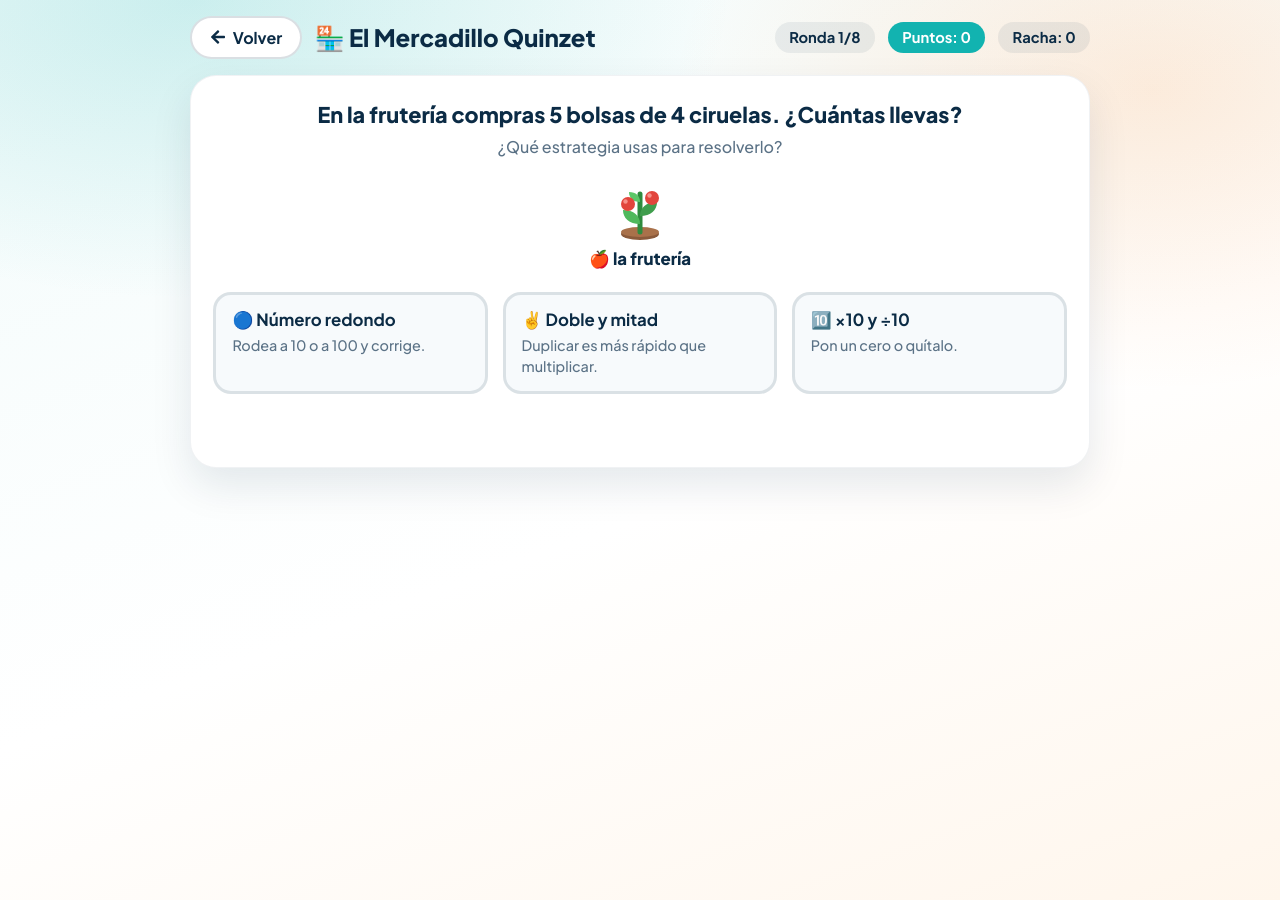
Scenario: el Mercadillo Quinzet › elige la estrategia, responde los pasos y cobra
This screenshot has width=1280, height=900.
Click the button "🔵 Número redondo Rodea a 10 o a 100 y corrige.". click: (351, 343)
box: [213,292,488,394]
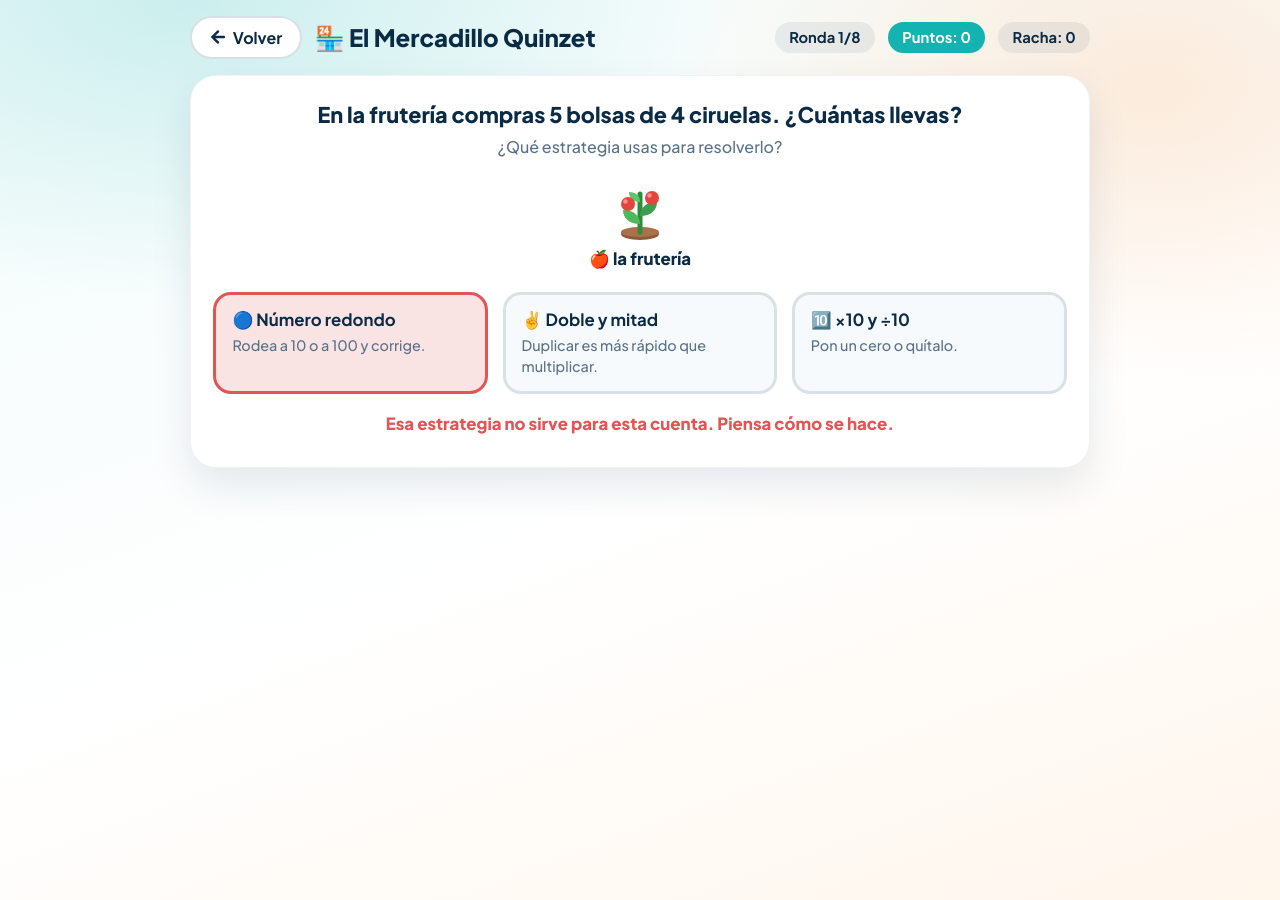
Click the button "✌️ Doble y mitad Duplicar es más rápido que multiplicar.". click: (640, 343)
box: [503,292,777,394]
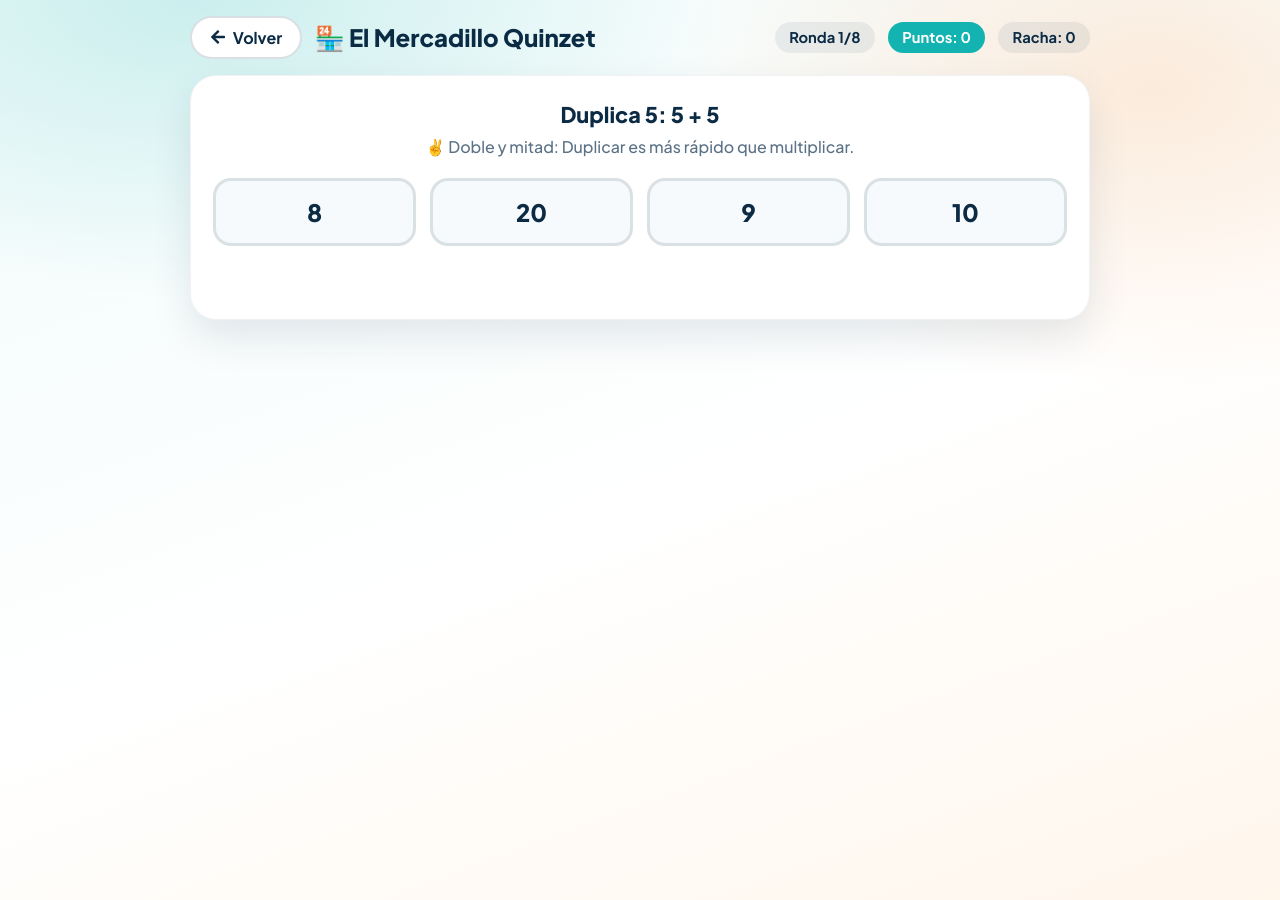
Click the button "8". click: (315, 212)
box: [213,178,416,246]
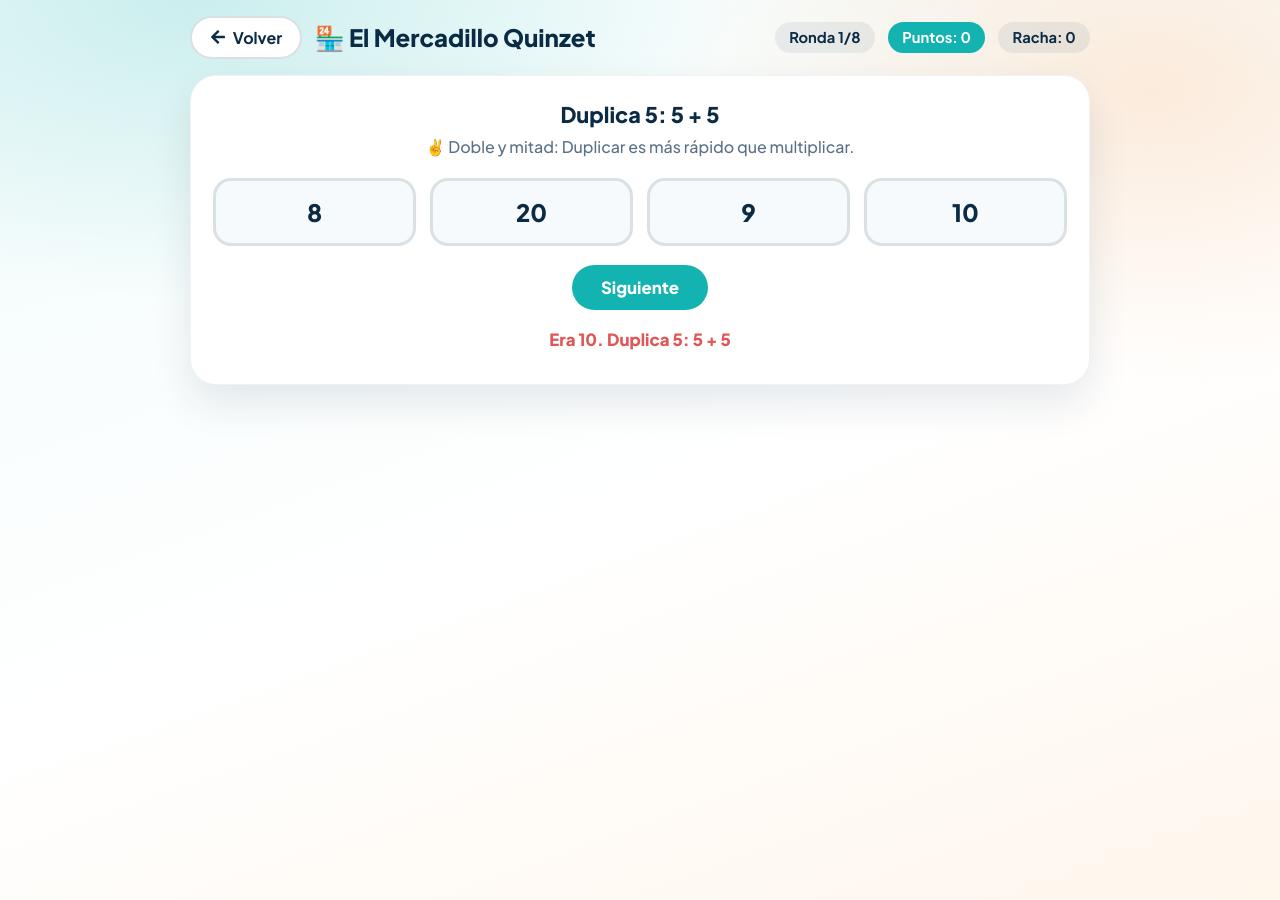
Expected: the text "Era 10. Duplica 5: 5 + 5" is shown, [549,329,731,350]
Click the button "Siguiente". click: (640, 288)
box: [572,265,708,310]
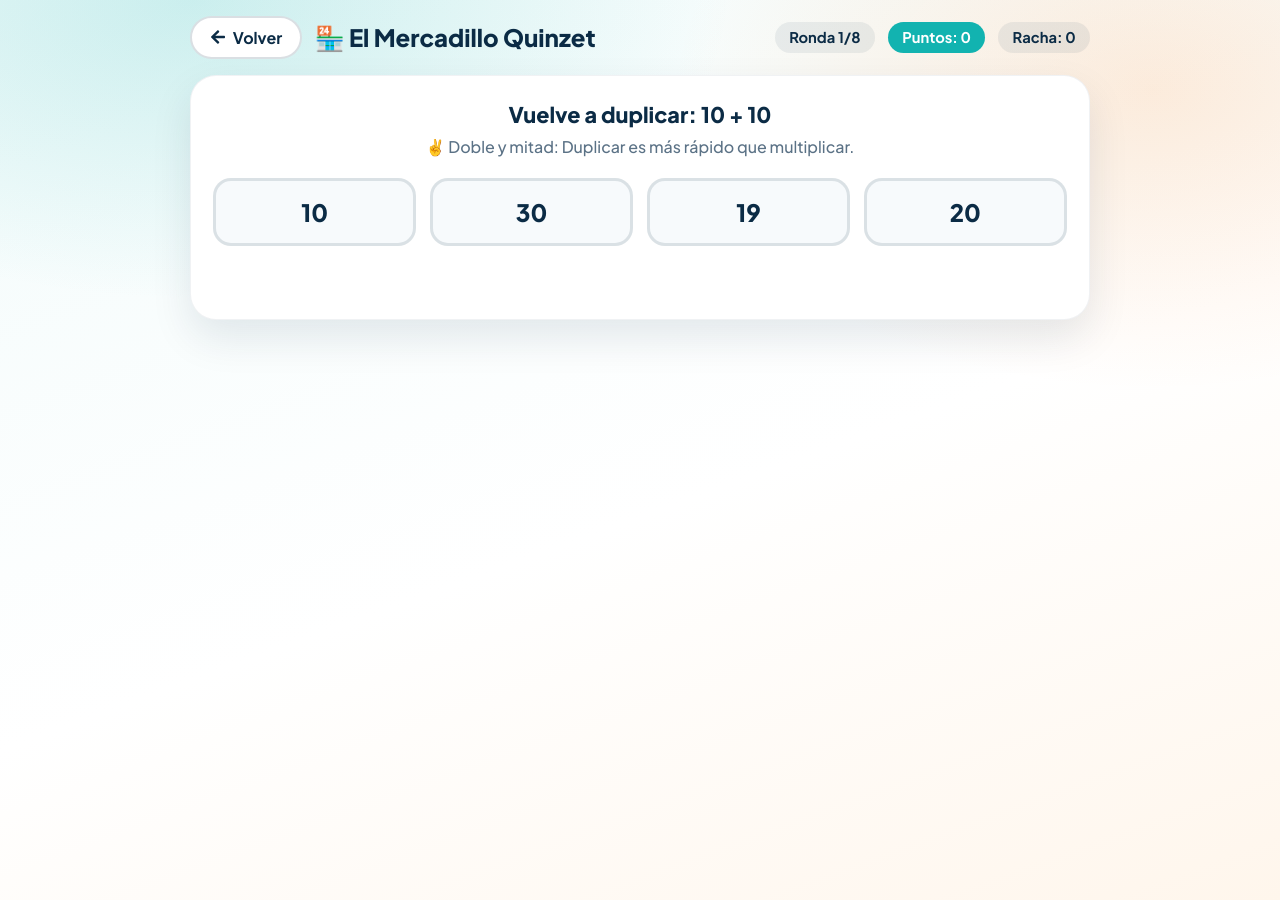
Click the button "10". click: (315, 212)
box: [213,178,416,246]
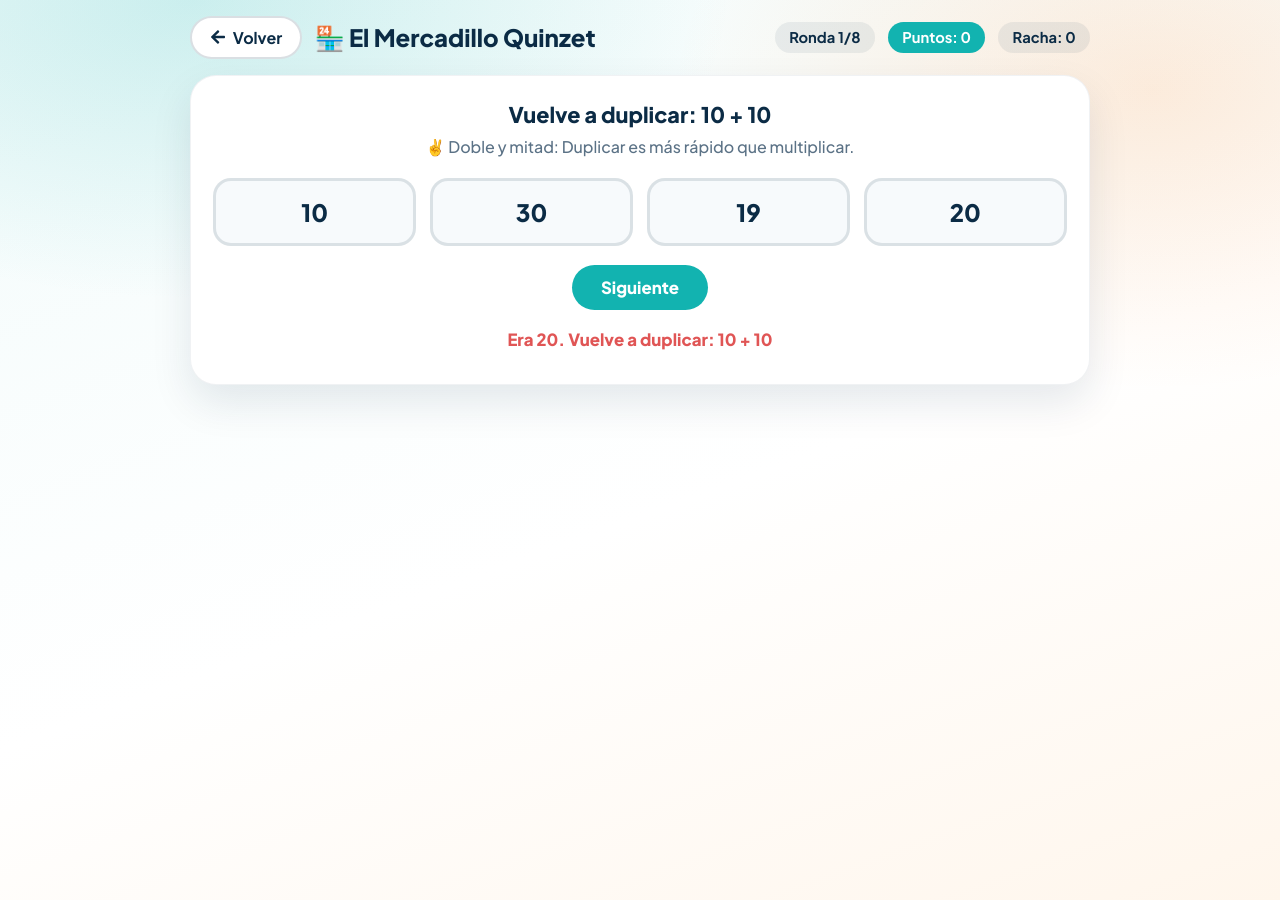
Expected: the text "Era 20. Vuelve a duplicar: 10 + 10" is shown, [507,329,772,350]
Click the button "Siguiente". click: (640, 288)
box: [572,265,708,310]
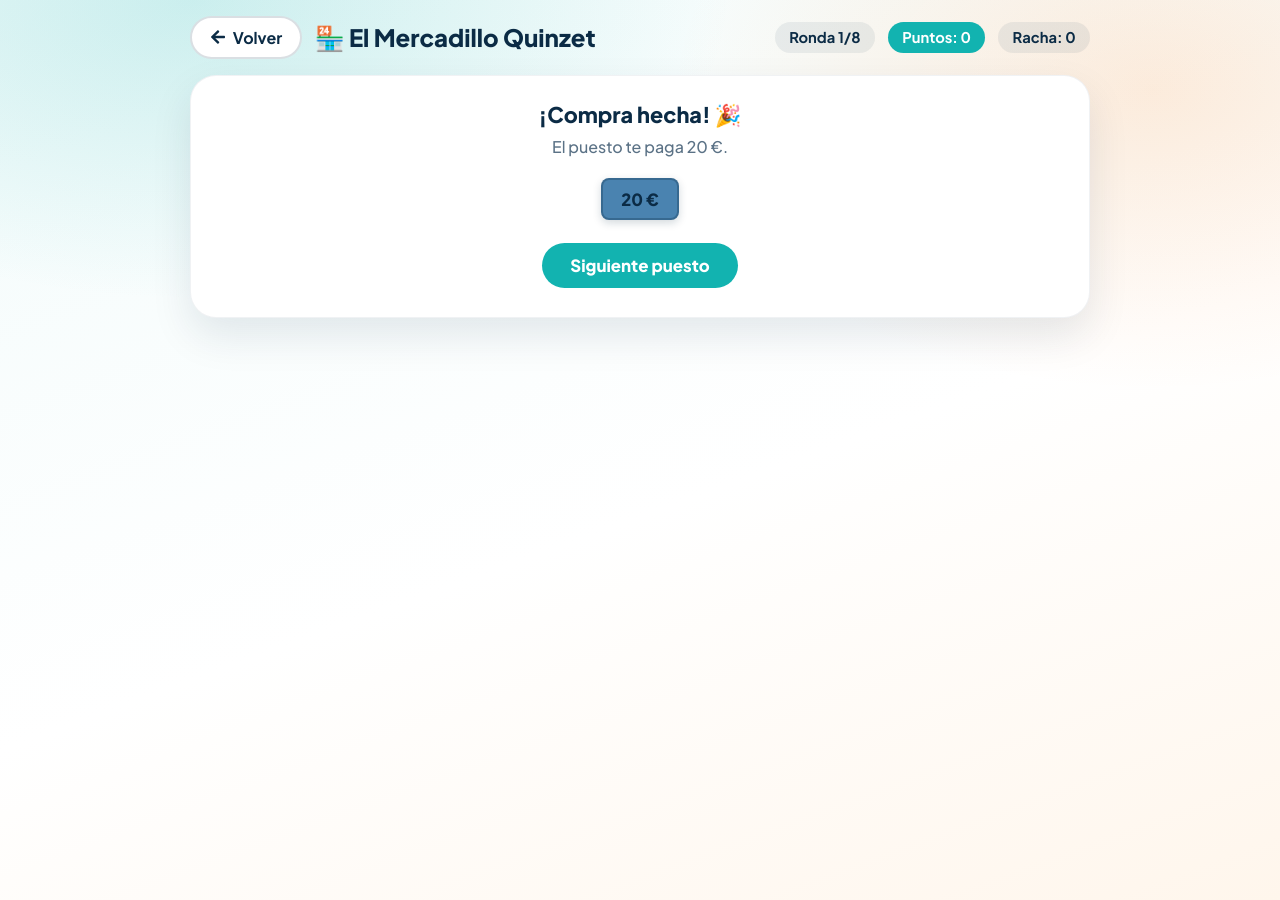
Expected: the heading "¡Compra hecha! 🎉" is shown, [538,101,741,128]
Expected: the button "Siguiente puesto" is shown, [542,243,738,288]
